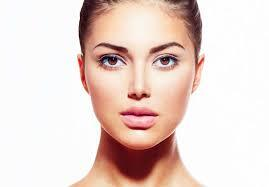Human Face: (77, 1, 206, 149)
